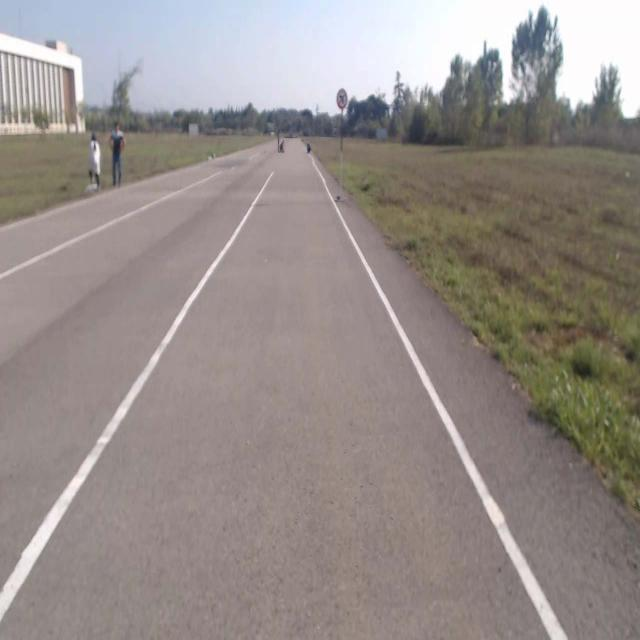soladonulmez: (337, 88, 347, 108)
